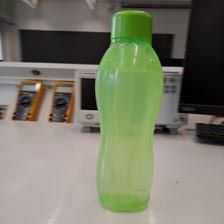bottle: (92, 10, 164, 215)
